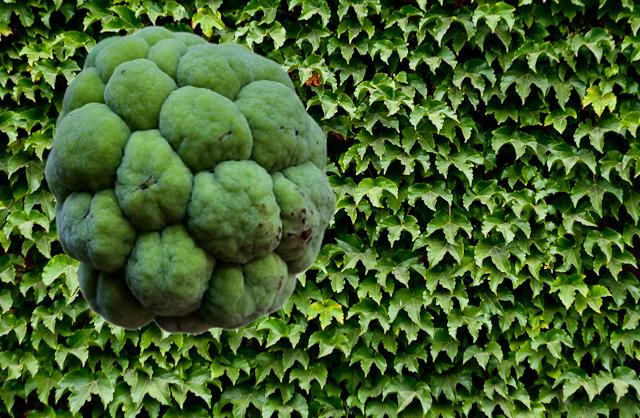atis: (44, 24, 336, 335)
